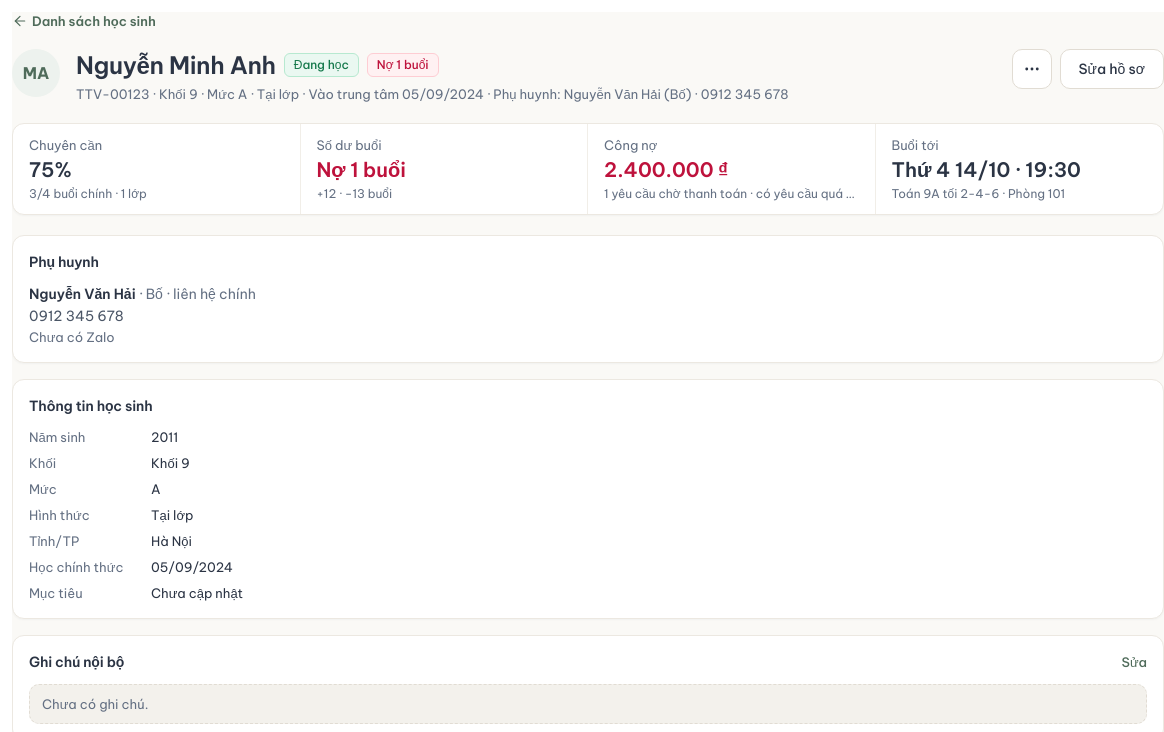
Student profile presentation (design 05) › shows the header, KPI tiles and overflow actions for an active student with debt
Expected: the heading "Nguyễn Minh Anh" is shown, [76, 49, 276, 81]
Expected: the text "Nợ 1 buổi" in the row of "Nguyễn Minh Anh" is shown, [377, 57, 429, 72]
Click the button named "Thêm hành động" at (1032, 69), box [1012, 49, 1052, 89]
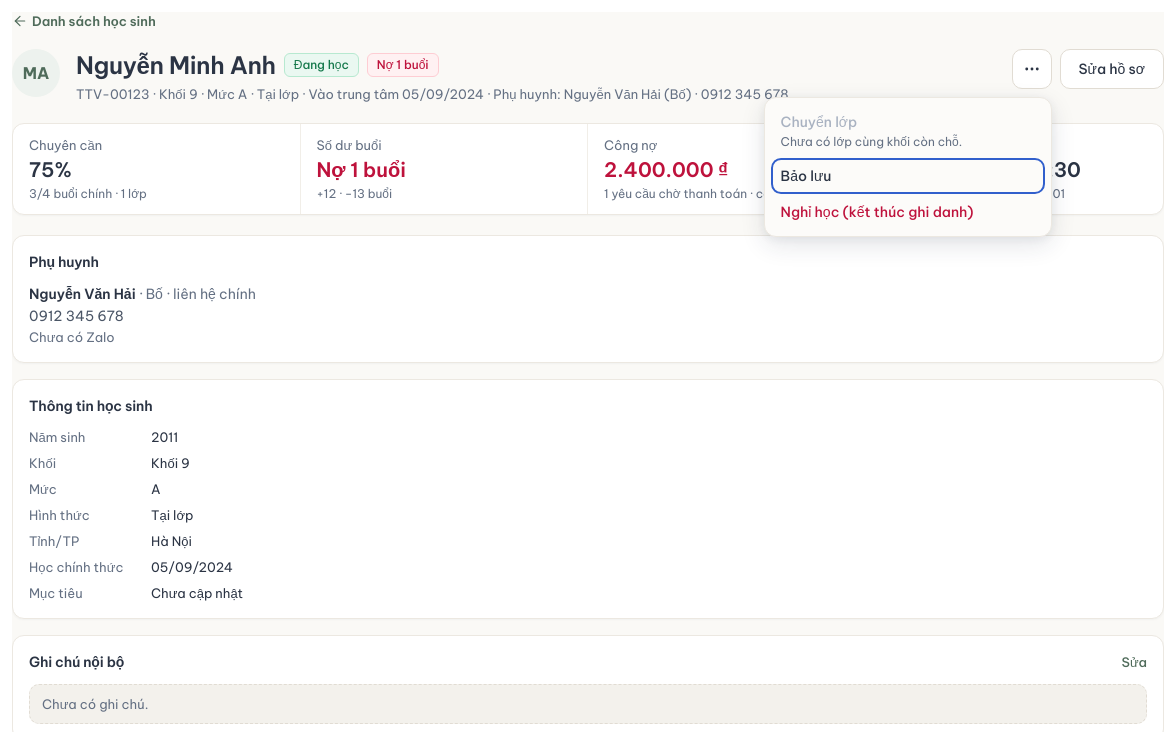
Expected: the menu item "Bảo lưu" is shown, [771, 158, 1045, 194]
Expected: the text "Chưa có lớp cùng khối còn chỗ." is shown, [781, 134, 962, 150]
Expected: the menu item "Nghỉ học (kết thúc ghi danh)" is shown, [771, 194, 1045, 230]
